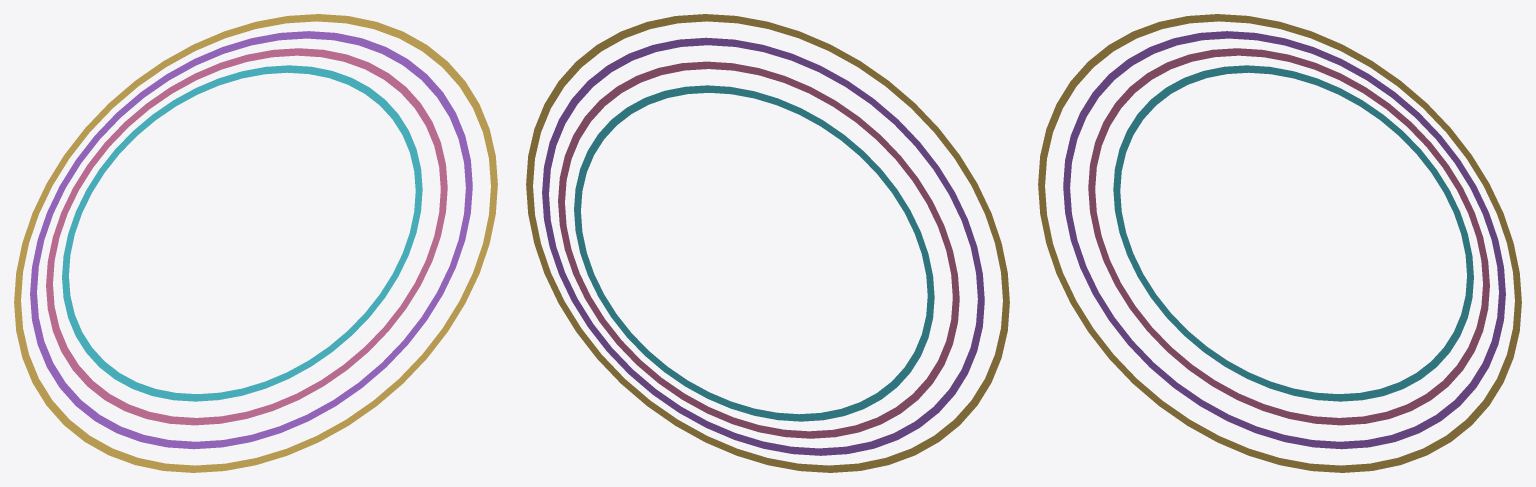
The model's file is neon-rings.glb.
3 views of the same model, side by side, from view 1: azimuth 30°, elevation 25°; view 2: azimuth 150°, elevation 25°; view 3: azimuth 330°, elevation 25° (orthographic).
Visible parts, largest first — view 1: orbital neon (×4); view 2: orbital neon (×4); view 3: orbital neon (×4).
Boxes of the visible parts, <box> form: orbital neon (×4): <box>14,14,497,472</box>; orbital neon (×4): <box>526,14,1009,472</box>; orbital neon (×4): <box>1038,14,1521,472</box>.
Bounding box in the file's own units: 3.06 × 2.68 × 0.15.
